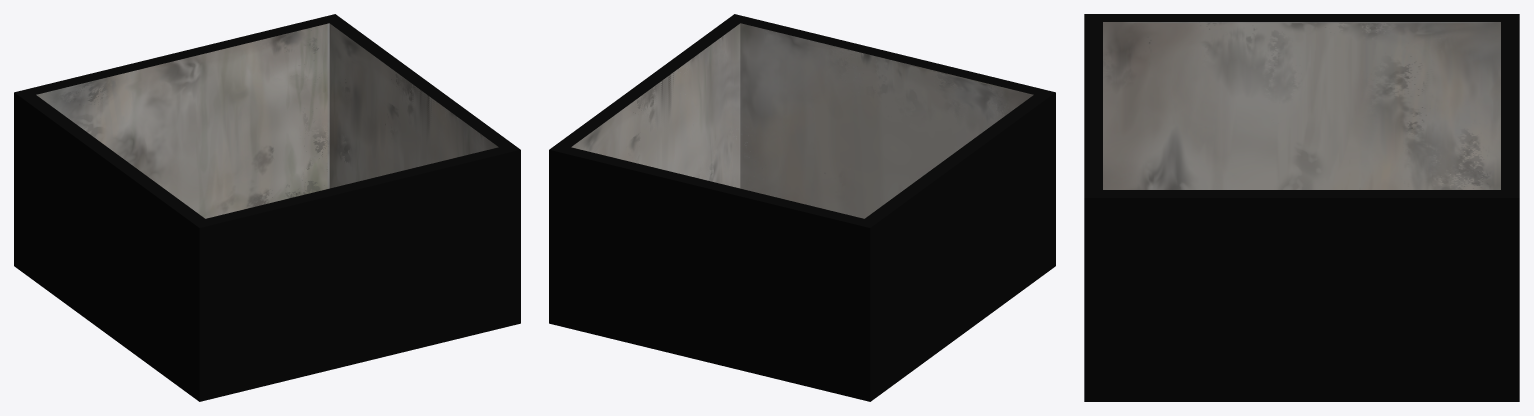
File: main_wallandfloor.fbx
3 renders of one model, left to right at view 1: azimuth 30°, elevation 25°; view 2: azimuth 150°, elevation 25°; view 3: azimuth 270°, elevation 25°, orthographic. The views are drawn at different scales.
Visible parts, largest first — view 1: MAINWALLANDFLOOR; view 2: MAINWALLANDFLOOR; view 3: MAINWALLANDFLOOR.
Boxes of the visible parts, x1,y1,x2,y2 form: MAINWALLANDFLOOR: (14,14,520,401); MAINWALLANDFLOOR: (549,14,1055,401); MAINWALLANDFLOOR: (1084,14,1519,401).
Size of the model in its own units: 2320 by 1200 by 2320.
Materials: 2 (1 with a texture image).
